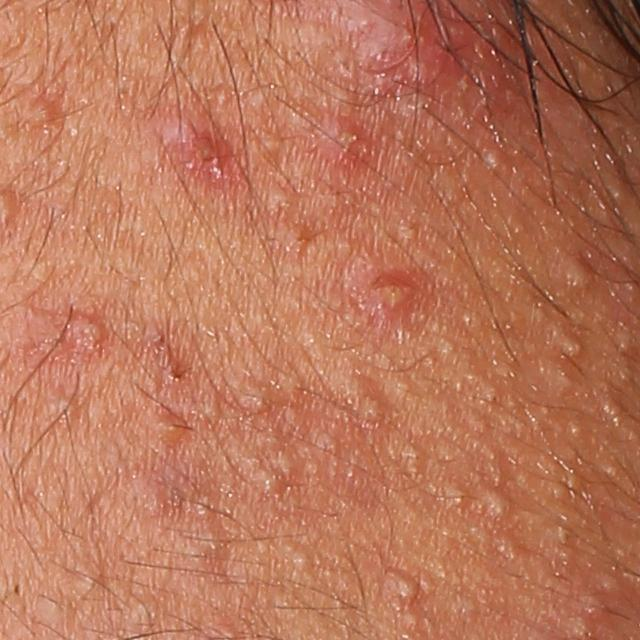comedo: (56, 307, 104, 355), (21, 84, 60, 129), (281, 540, 320, 576), (240, 383, 277, 420), (563, 253, 599, 290), (247, 467, 283, 501), (478, 489, 511, 526), (550, 327, 587, 360), (355, 387, 386, 426), (264, 187, 296, 222), (389, 575, 422, 606), (398, 441, 431, 472), (279, 227, 313, 256), (593, 573, 627, 601), (560, 416, 590, 447), (472, 380, 502, 410), (52, 393, 85, 419), (600, 395, 625, 426), (78, 571, 108, 596), (485, 146, 508, 175)
papule: (164, 113, 231, 183), (309, 104, 368, 170), (367, 269, 415, 325)
